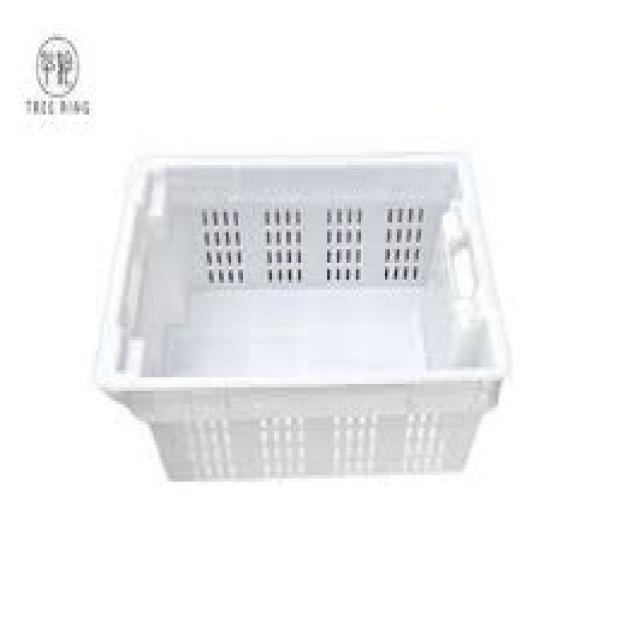basket: (97, 160, 509, 483)
